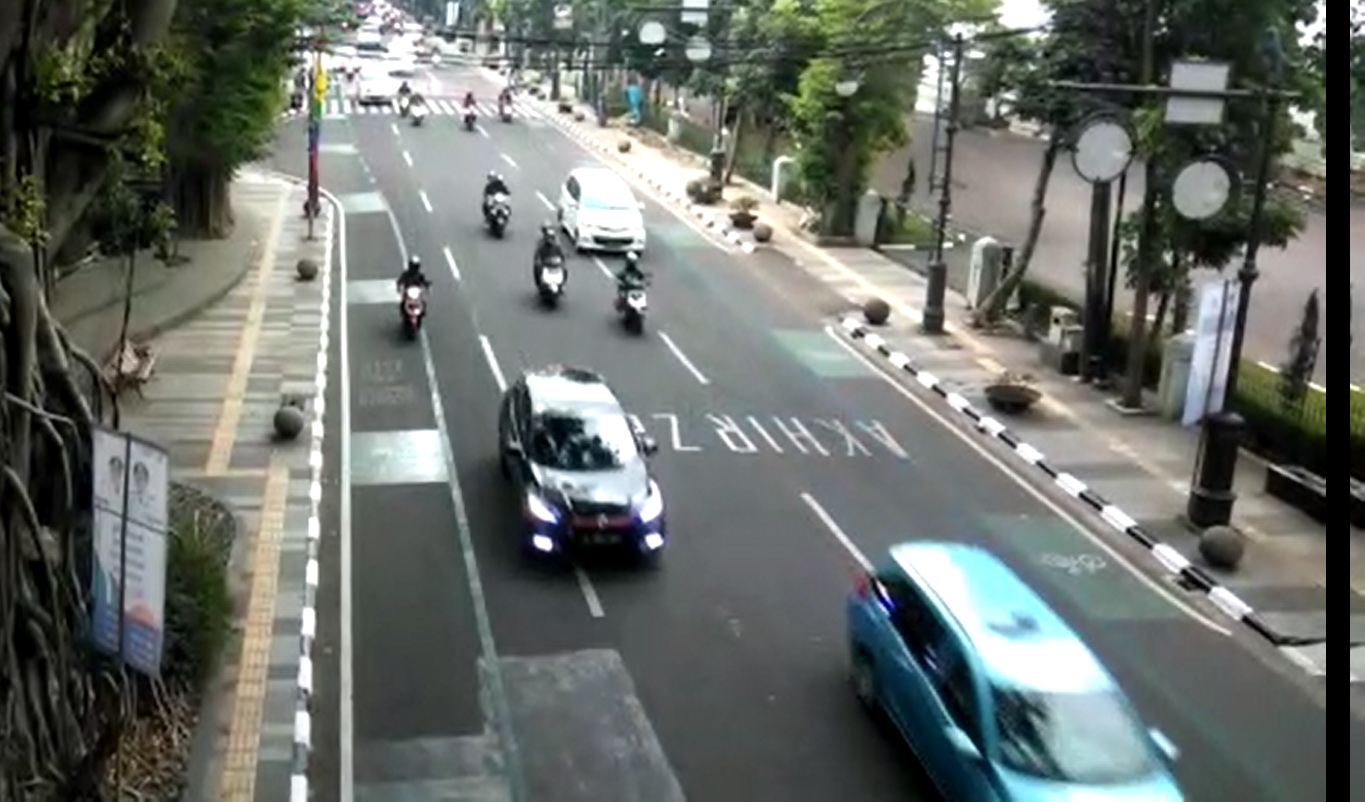mobil: (831, 523, 1206, 802), (486, 360, 681, 589), (552, 157, 659, 262)
motor: (609, 245, 659, 344), (527, 215, 574, 316), (391, 251, 439, 347), (473, 164, 520, 245)
